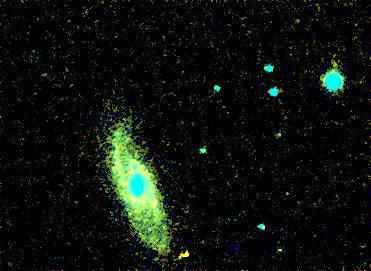star: (172, 240, 202, 270)
